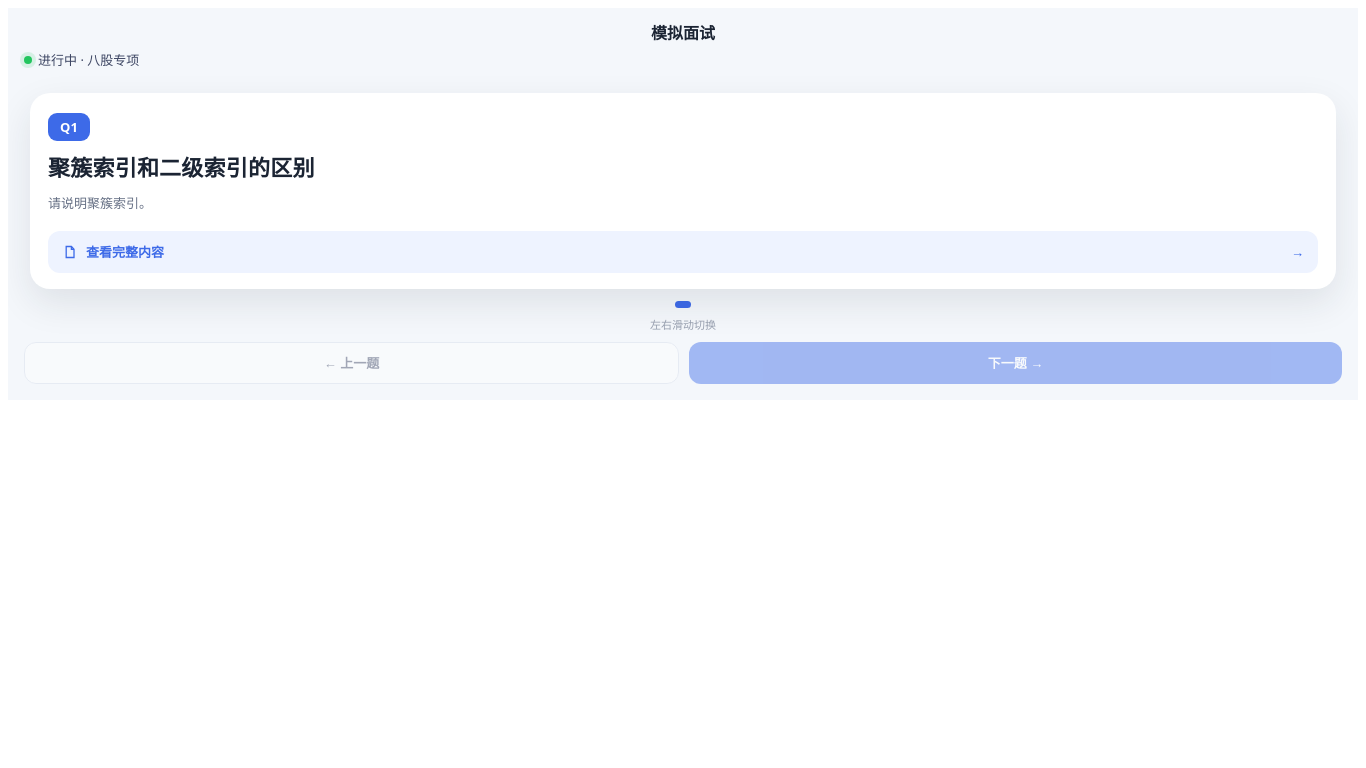
Scenario: InProgressPanel › lists both guided turns and hides the next-card slot and coverage names
Expected: the number of elements with test id "card-id" is 1, [48, 113, 90, 141]
Step 1. Click the button with test id "open-card-detail" → (125, 252), box [48, 231, 1318, 273]
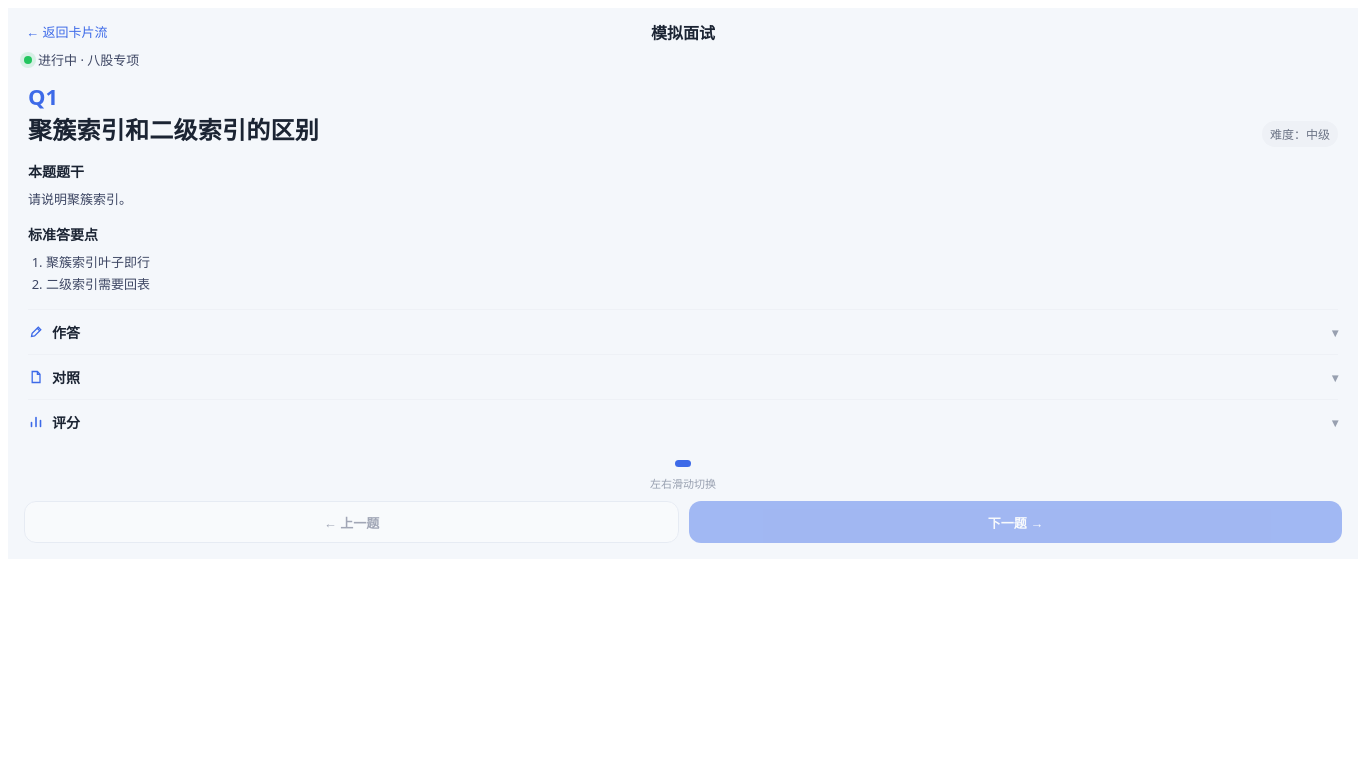
Step 2. Click the button "作答 ▾" → (36, 332), box [28, 310, 1338, 354]
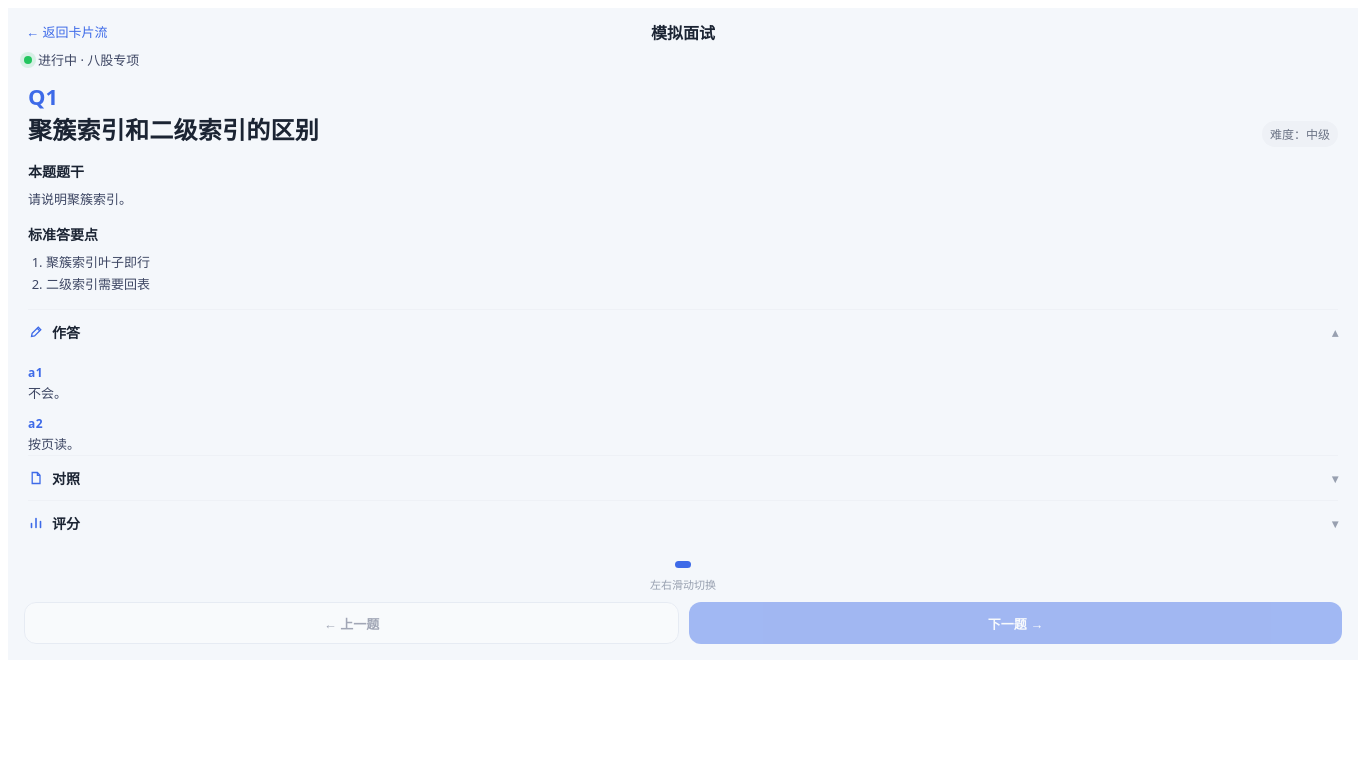
Expected: the elements with test id "answer-turn-label" read "a1", "a2", in this order, [28, 364, 43, 381]; [28, 415, 43, 432]
Expected: the elements with test id "card-answer" read "不会。", "按页读。", in this order, [28, 384, 67, 402]; [28, 435, 80, 453]
Step 3. Click the button "对照 ▾" → (36, 478), box [28, 456, 1338, 500]
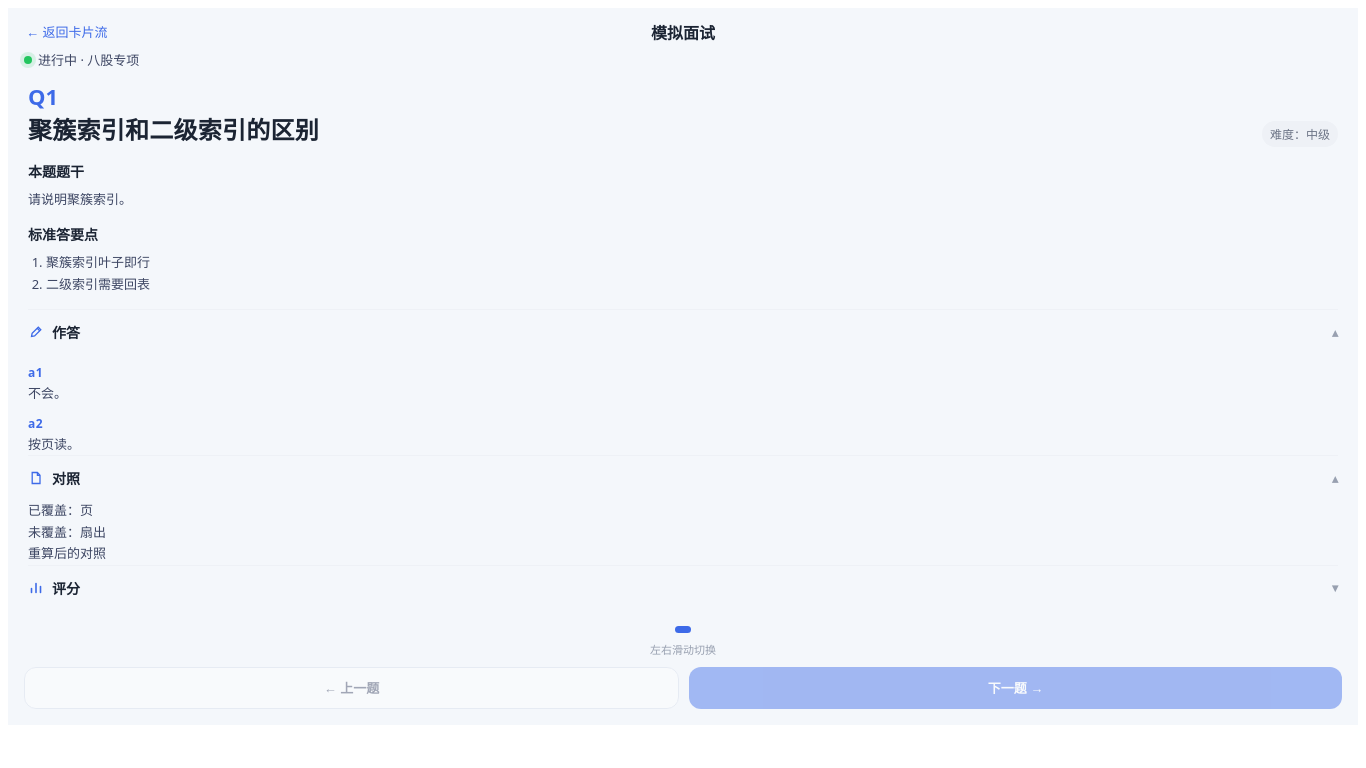
Expected: the element with test id "card-comparison" shows "重算后的对照", [28, 544, 106, 562]
